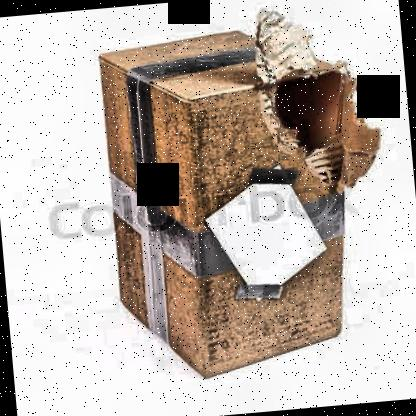defect parcel: (195, 0, 403, 229)
